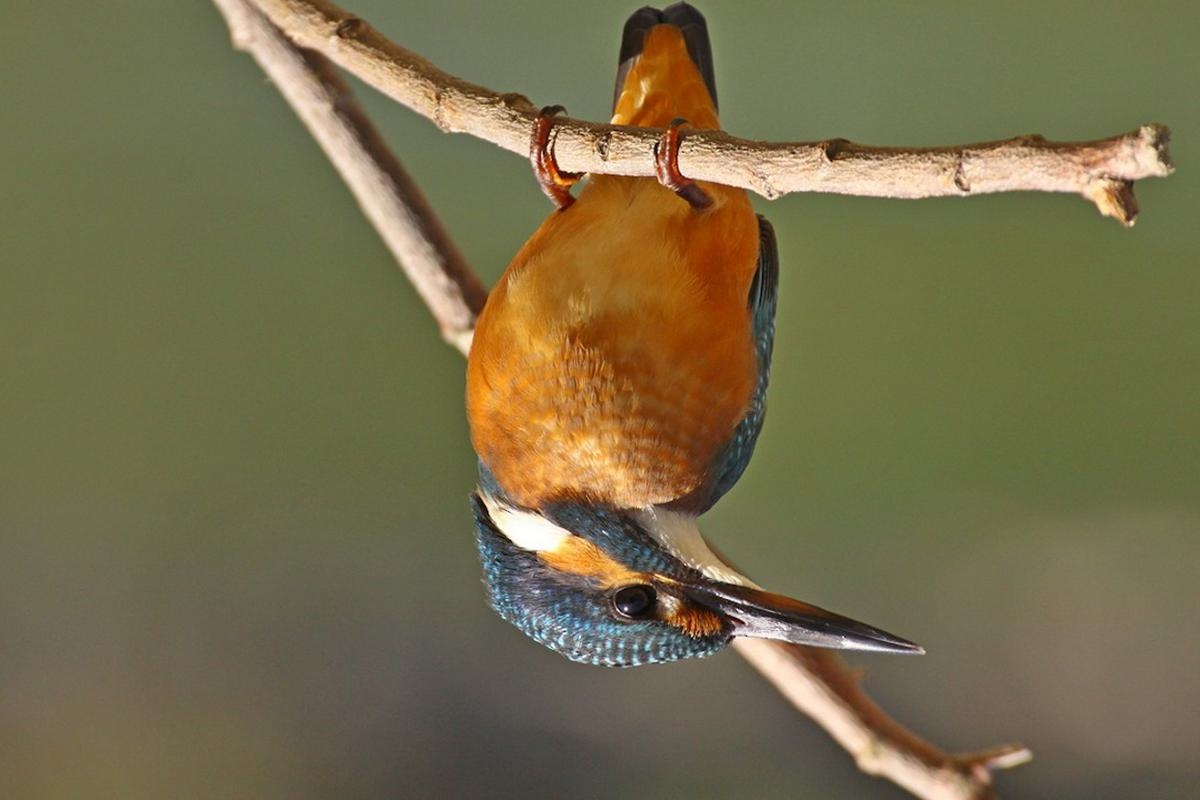kingfisher: (438, 5, 930, 689)
